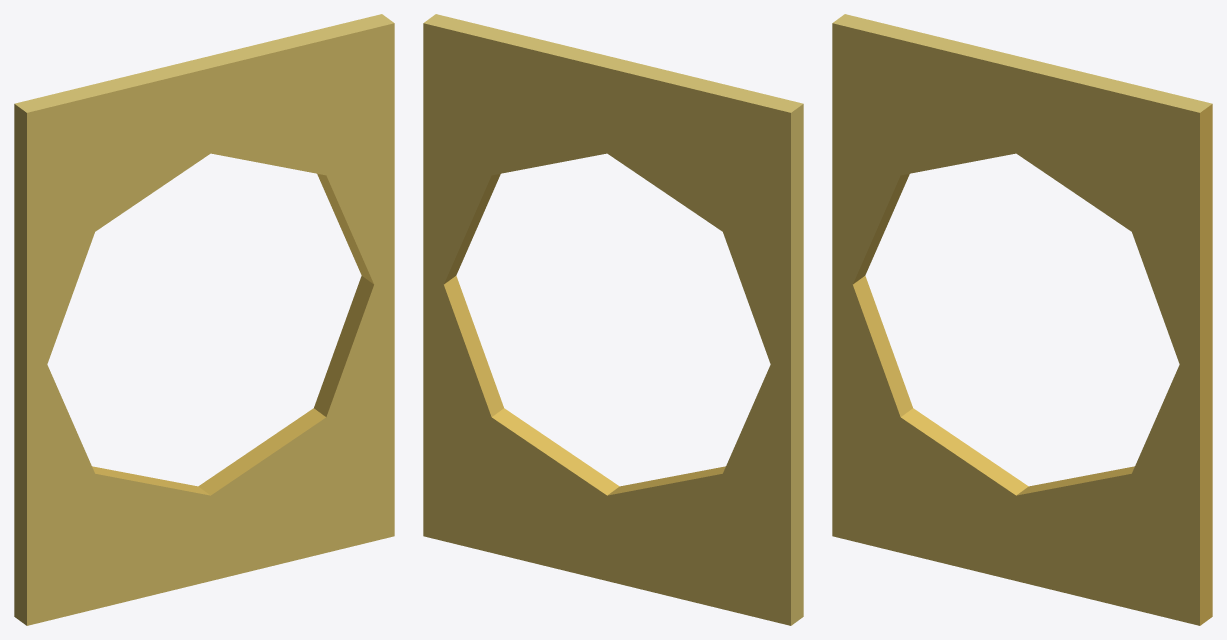
The model's file is squidgame_props_platform_decoration4_yellow.fbx.
3 views of the same model, side by side, from view 1: azimuth 30°, elevation 25°; view 2: azimuth 150°, elevation 25°; view 3: azimuth 330°, elevation 25° (orthographic).
Parts seen in each view (by area): view 1: squidgame_props_platform_decoration4_yellow; view 2: squidgame_props_platform_decoration4_yellow; view 3: squidgame_props_platform_decoration4_yellow.
Boxes of the visible parts, <box> form: squidgame_props_platform_decoration4_yellow: <box>14,14,394,625</box>; squidgame_props_platform_decoration4_yellow: <box>423,14,803,625</box>; squidgame_props_platform_decoration4_yellow: <box>832,14,1212,625</box>.
Bounding box in the file's own units: 4.5 × 6 × 0.2663.
